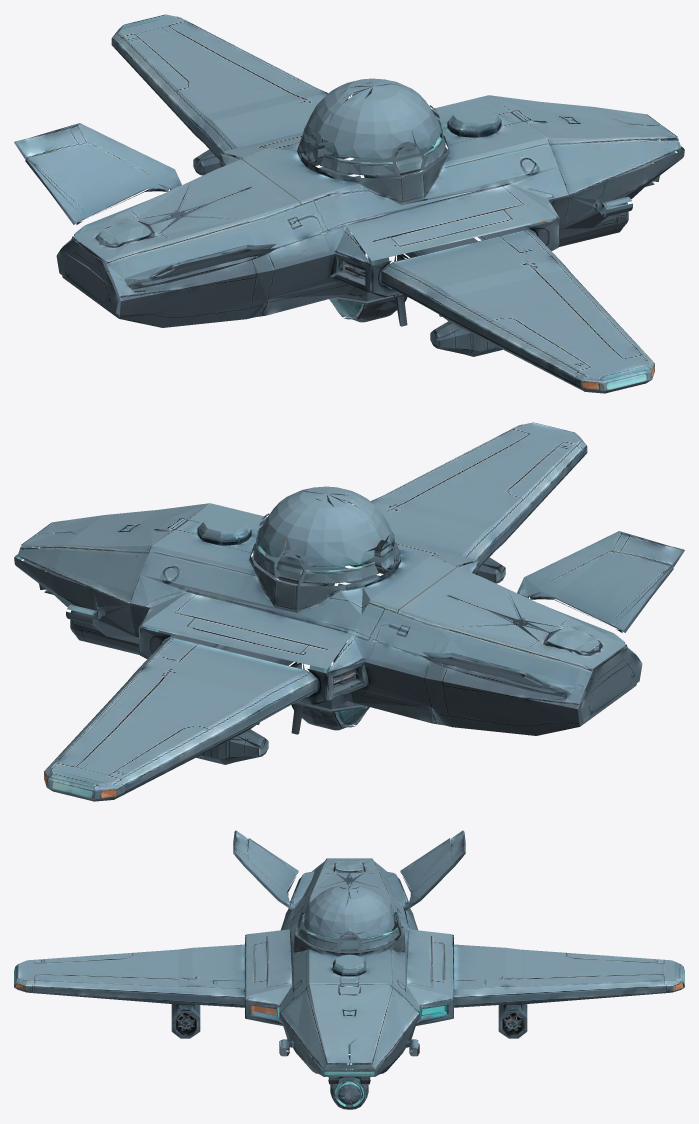
File: overseer_LOD1.glb
The picture shows the model from 3 angles, top to bottom: view 1: azimuth 30°, elevation 25°; view 2: azimuth 150°, elevation 25°; view 3: azimuth 270°, elevation 25°; orthographic projection. The views are drawn at different scales.
Parts seen in each view (by area): view 1: overseer_LOD1; view 2: overseer_LOD1; view 3: overseer_LOD1.
Part boxes in pixels (x1,y1,x2,y2): overseer_LOD1: [14, 14, 684, 393]; overseer_LOD1: [14, 422, 684, 801]; overseer_LOD1: [14, 830, 684, 1109].
Bounding box in the file's own units: 0.6843 × 0.26 × 0.9991.
Materials: 1 (1 with a texture image).
